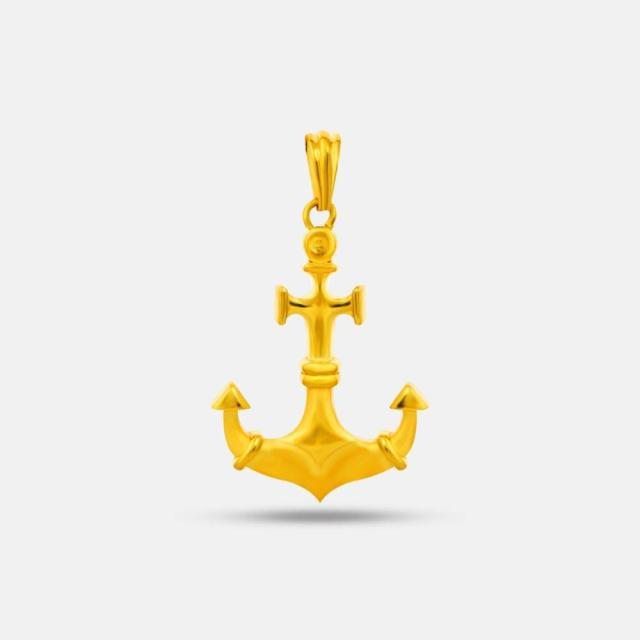missing gem: (309, 232, 331, 256)
